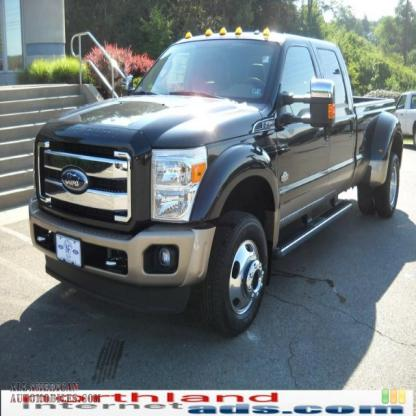Vehicle: (30, 25, 405, 340)
